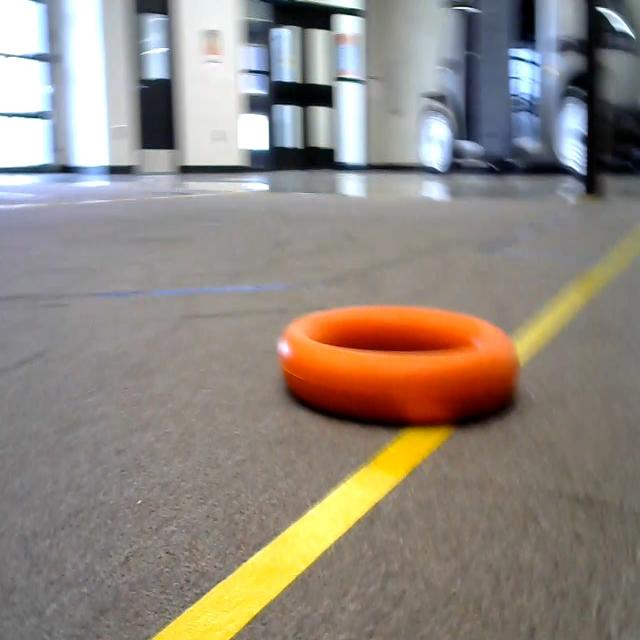note: (263, 266, 545, 441)
